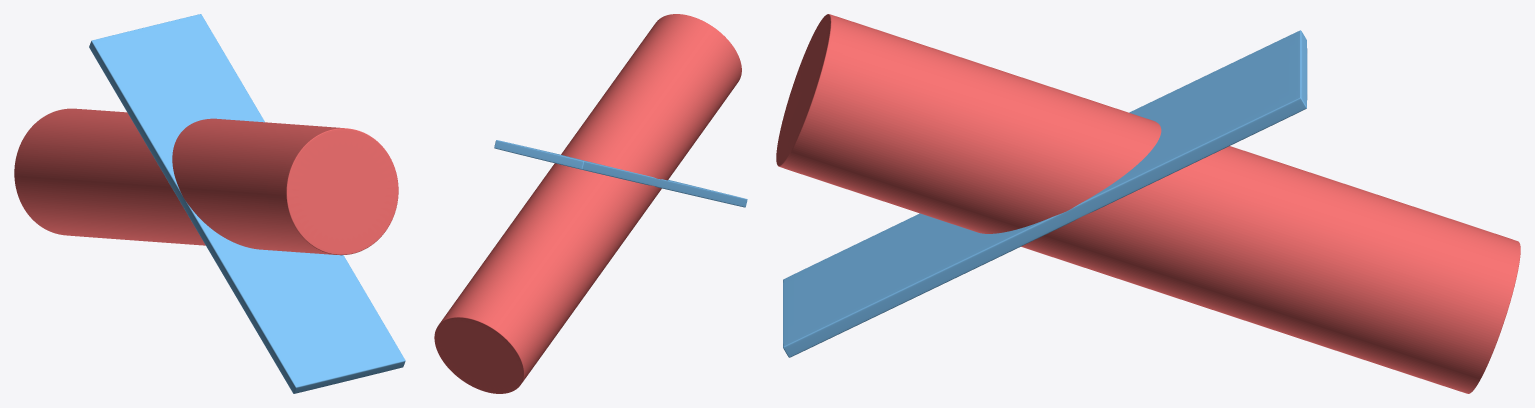
Rendered from Mega_SlideTube_Hi_205528.fbx.
3 renders of one model, left to right at view 1: azimuth 30°, elevation 25°; view 2: azimuth 150°, elevation 25°; view 3: azimuth 270°, elevation 25°, orthographic. The views are drawn at different scales.
Parts seen in each view (by area): view 1: Cylinder, Cube; view 2: Cylinder, Cube; view 3: Cylinder, Cube.
Part boxes in pixels (x1=…): Cylinder: x1=14, y1=108, x2=398, y2=255; Cube: x1=89, y1=14, x2=405, y2=393; Cylinder: x1=434, y1=14, x2=741, y2=393; Cube: x1=494, y1=140, x2=747, y2=207; Cylinder: x1=776, y1=14, x2=1520, y2=393; Cube: x1=783, y1=30, x2=1307, y2=357.
Bounding box in the file's own units: 2.2 × 5.47 × 10.13.
